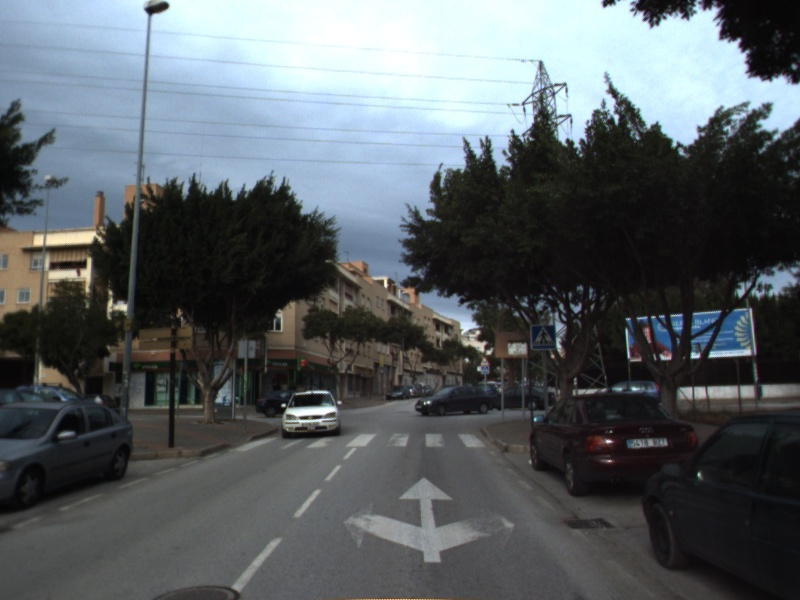STRAIGHT_LEFT_RIGHT: (341, 474, 518, 565)
